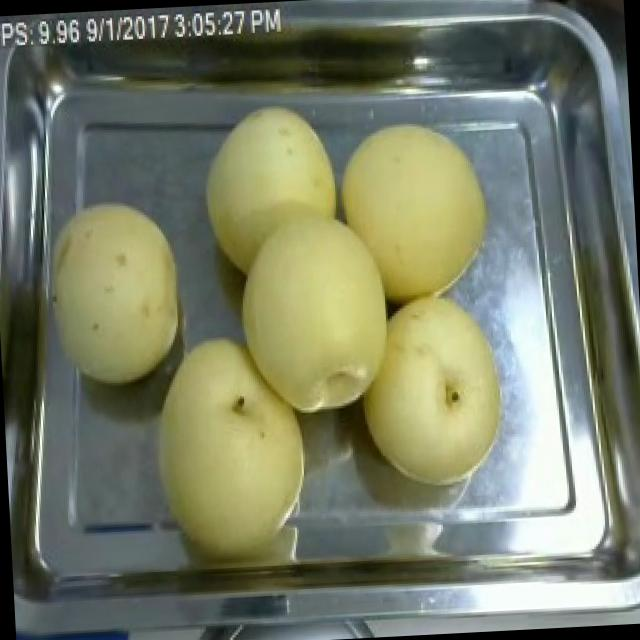Fruit: (136, 320, 322, 568), (192, 88, 366, 324), (224, 202, 403, 426), (27, 186, 200, 400), (326, 108, 504, 314), (347, 283, 518, 497)
